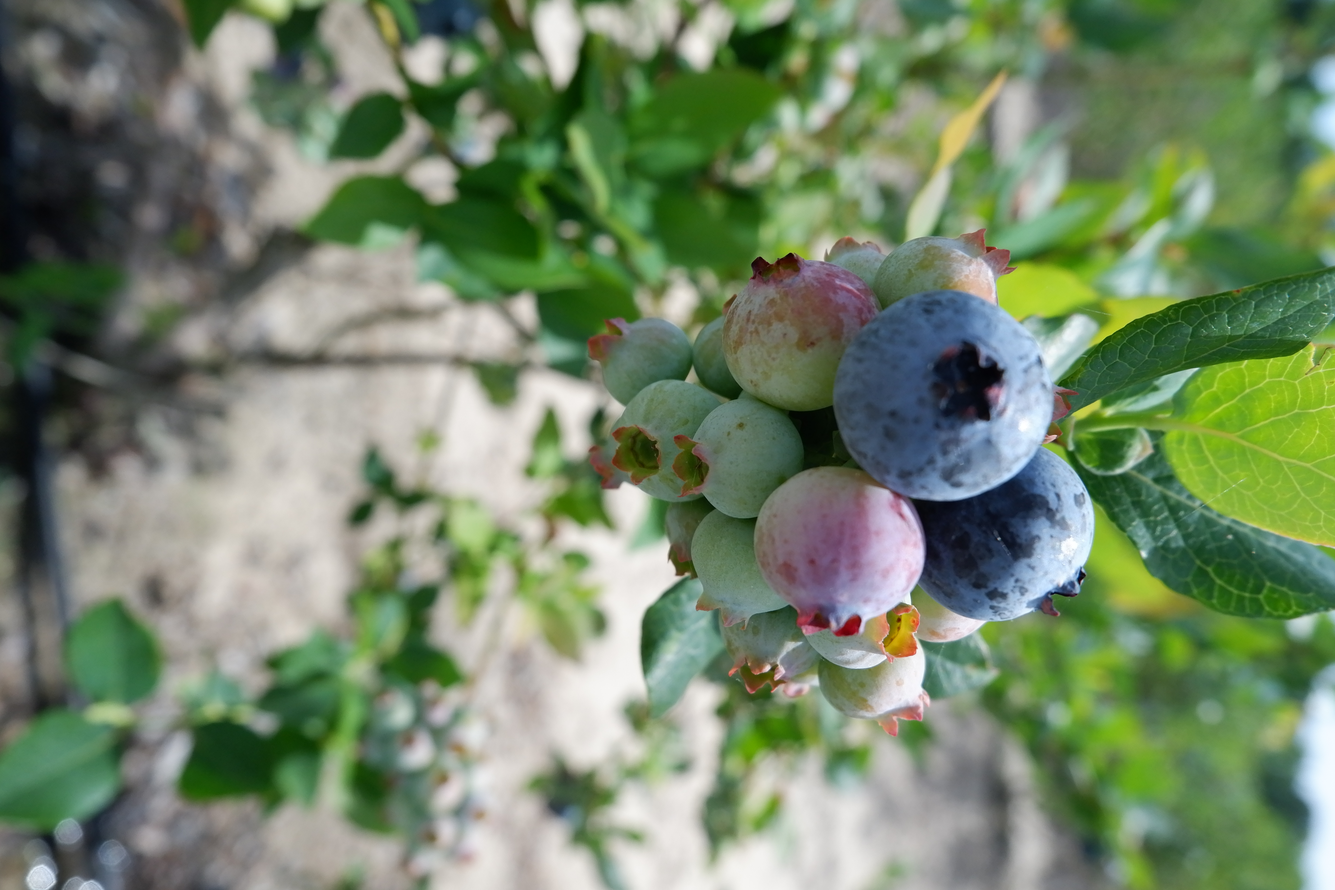Immature: (760, 470, 923, 633), (729, 257, 877, 407), (692, 399, 802, 516), (615, 383, 720, 498), (694, 512, 783, 626), (821, 635, 927, 730), (876, 231, 1007, 304), (590, 319, 692, 399), (724, 608, 816, 693), (805, 605, 912, 666), (911, 587, 980, 642), (696, 315, 740, 397), (667, 497, 714, 572), (829, 240, 887, 288), (591, 428, 624, 489)
Mature: (834, 289, 1049, 498), (923, 450, 1088, 618)
